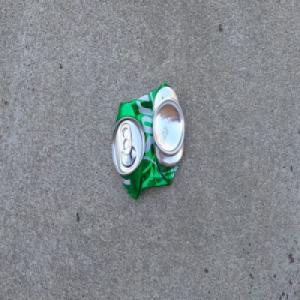SodaCan: (110, 80, 186, 201)
